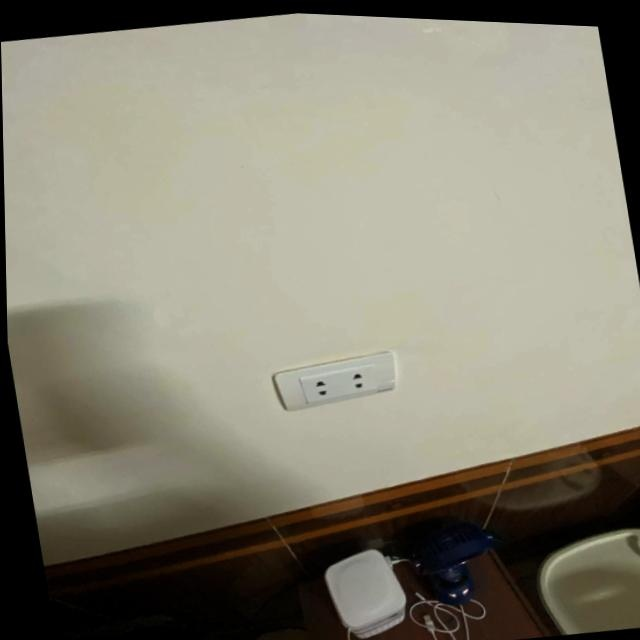outlet: (269, 345, 402, 417)
